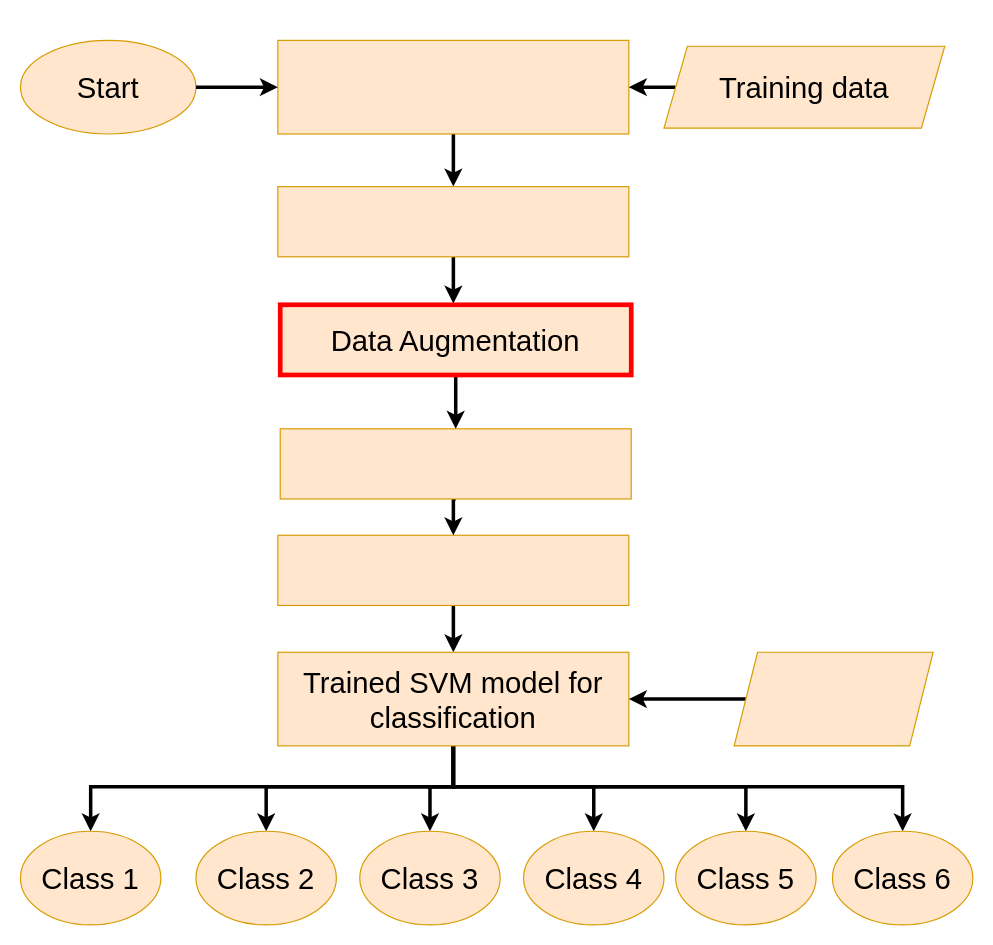
Some shapes in this 993 by 945 pixel diagram are drawn without their labels. The shapes that lost their labels are listed below. From the top down, each one's centre as x and y in pixels, then its label:
point (453, 86): Import training Data set
point (453, 221): Encode the labels
point (455, 463): Calculate LBP feature
point (453, 569): SVM training
point (833, 698): Test data
